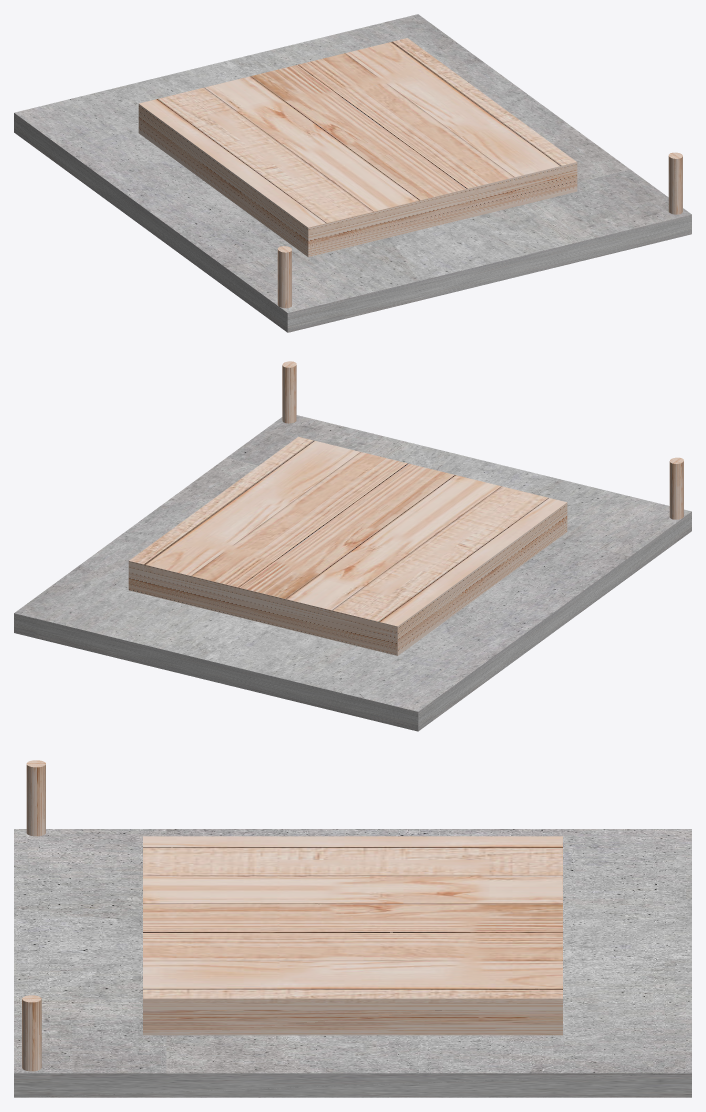
Rendered from tablado4.gltf.
The picture shows the model from 3 angles, top to bottom: view 1: azimuth 30°, elevation 25°; view 2: azimuth 150°, elevation 25°; view 3: azimuth 270°, elevation 25°; orthographic projection. The views are drawn at different scales.
Parts seen in each view (by area): view 1: Cube.002, Cube.001, Cylinder.002, Cylinder.000; view 2: Cube.002, Cube.001, Cylinder.002, Cylinder.000; view 3: Cube.002, Cube.001, Cylinder.000, Cylinder.002.
Boxes of the visible parts, x1,y1,x2,y2 form: Cube.002: [14, 14, 691, 332]; Cube.001: [138, 38, 577, 257]; Cylinder.002: [668, 152, 682, 214]; Cylinder.000: [277, 246, 291, 308]; Cube.002: [14, 415, 691, 731]; Cube.001: [128, 436, 567, 655]; Cylinder.002: [282, 361, 296, 423]; Cylinder.000: [669, 457, 683, 519]; Cube.002: [14, 829, 691, 1097]; Cube.001: [143, 836, 562, 1035]; Cylinder.000: [26, 760, 45, 836]; Cylinder.002: [22, 995, 41, 1071].
Size of the model in its own units: 3.63 by 0.6484 by 4.26.
4 materials, 4 textured.
